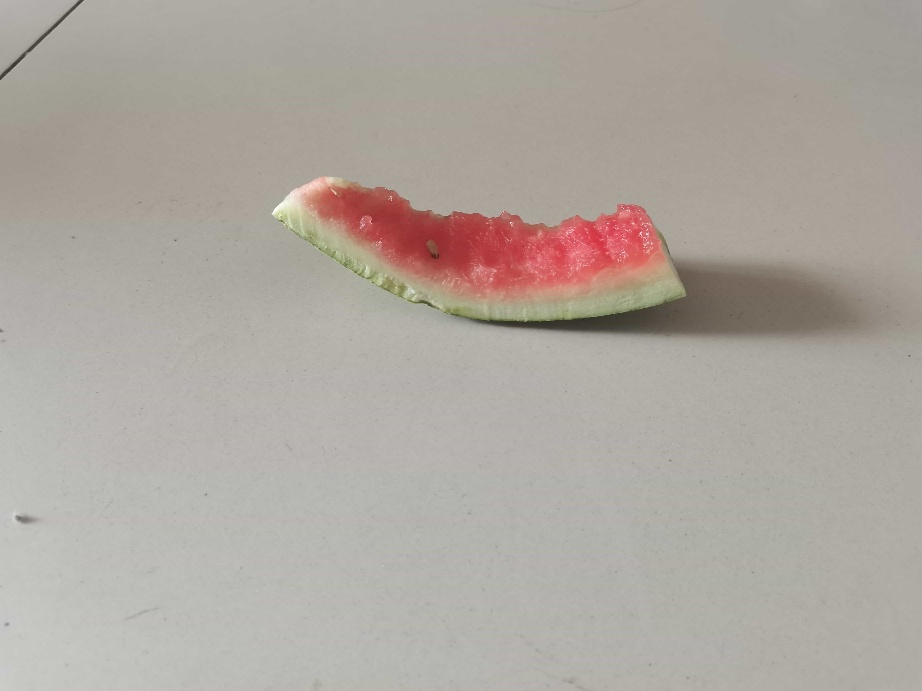pericarp: (265, 167, 699, 335)
